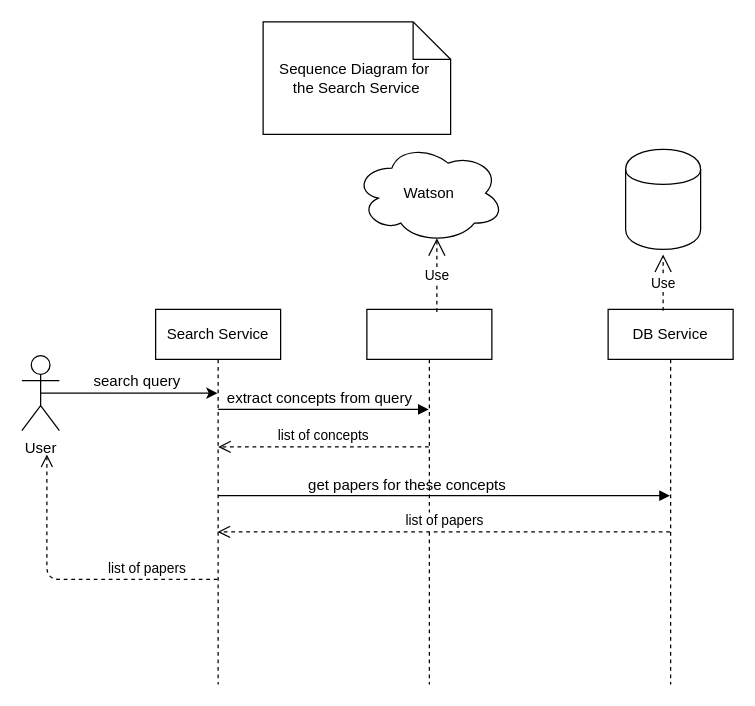
Some shapes in this 755 by 706 pixel diagram are drawn without their labels. Each missing label, with the centre of its shape:
"DB on AWS" goes at point (662, 198).
"Watson Service" goes at point (429, 496).
